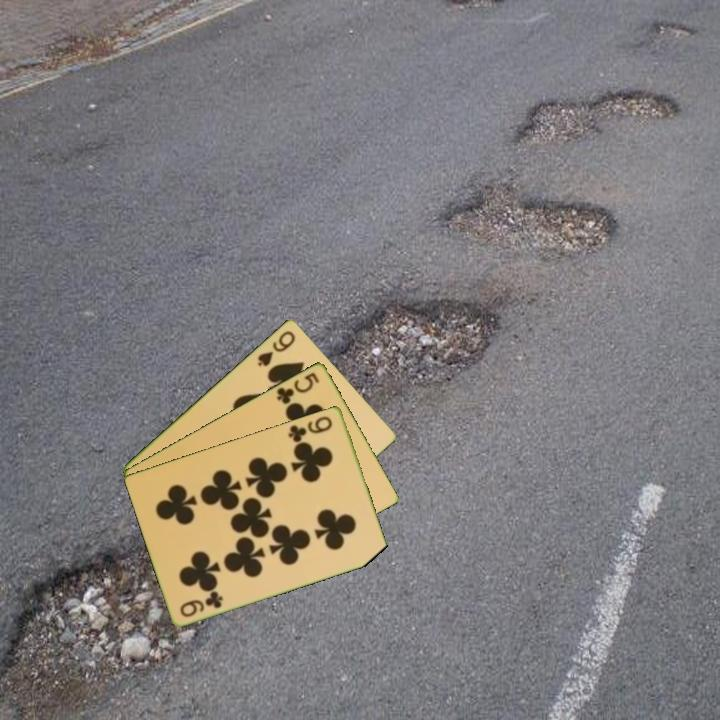5c: (273, 368, 322, 407)
9c: (285, 412, 335, 445), (177, 587, 226, 620)
9s: (254, 327, 298, 369)
